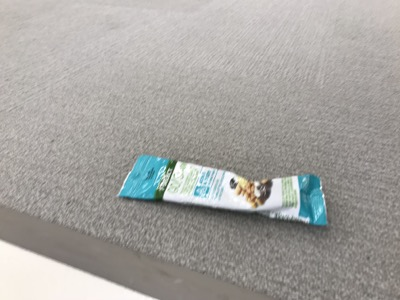trail mix: (116, 152, 332, 230)
